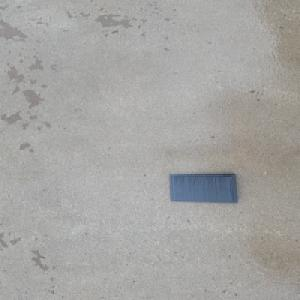PlasticPart: (168, 173, 239, 204)
